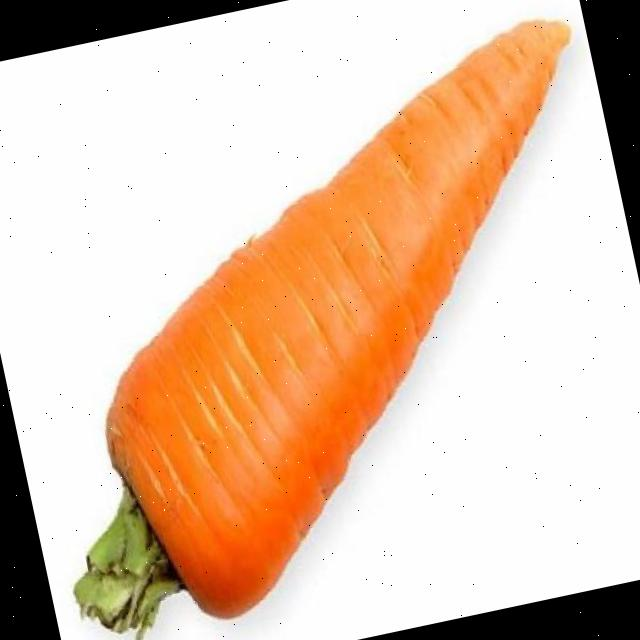carrot: (74, 19, 569, 636)
